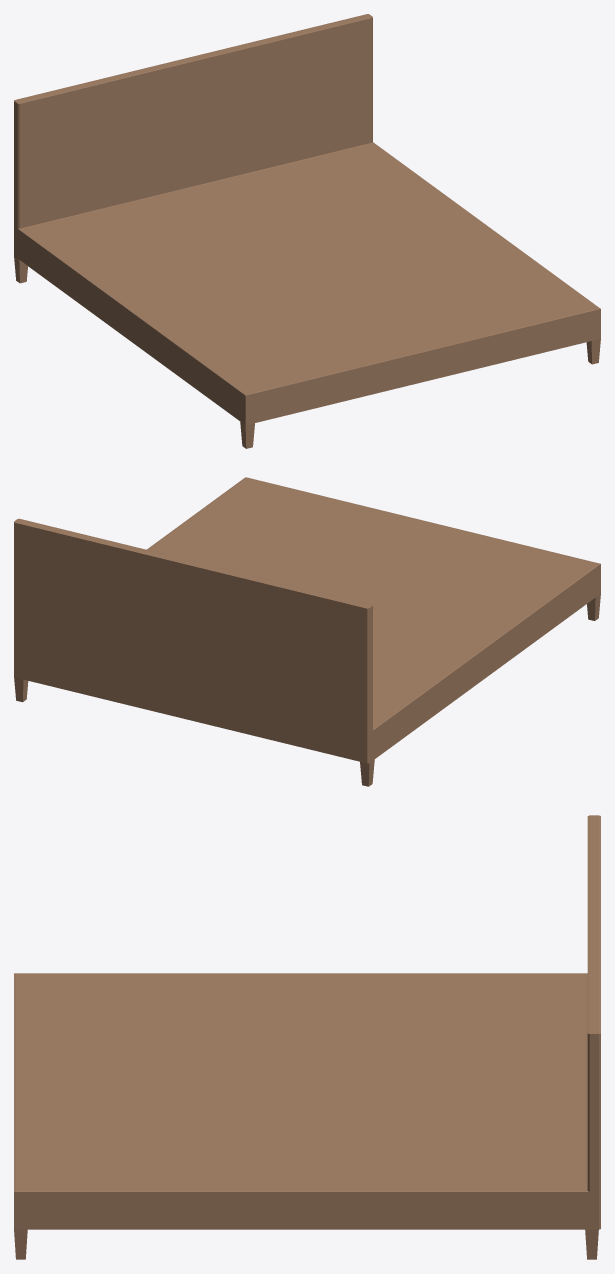
Rendered from BedFrame.glb.
3 views of the same model, one above another, from view 1: azimuth 30°, elevation 25°; view 2: azimuth 150°, elevation 25°; view 3: azimuth 270°, elevation 25° (orthographic). The views are drawn at different scales.
Visible parts, largest first — view 1: Bed Frame; view 2: Bed Frame; view 3: Bed Frame.
Part boxes in pixels (x1,y1,x2,y2): Bed Frame: [14, 14, 600, 448]; Bed Frame: [14, 477, 600, 786]; Bed Frame: [14, 815, 600, 1259].
Size of the model in its own units: 1.95 by 0.9414 by 2.21.
1 material, 1 textured.
